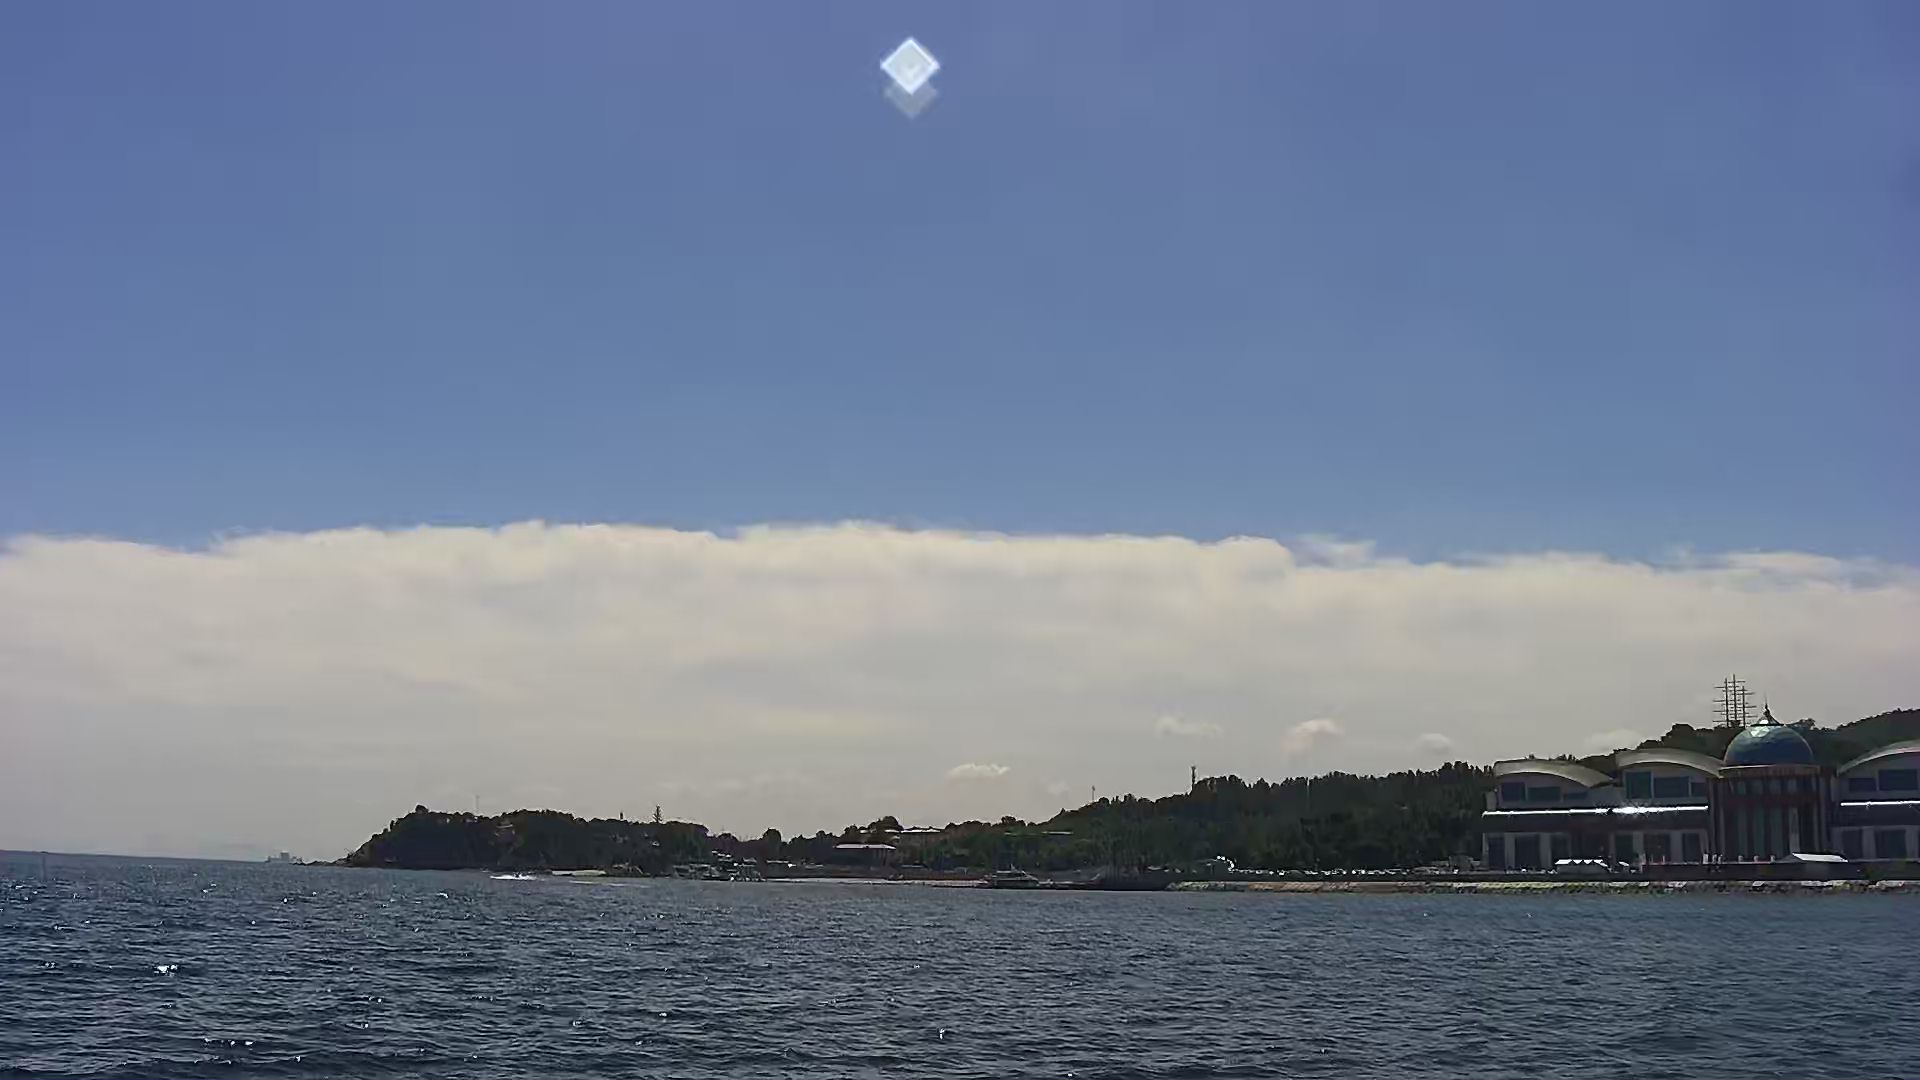boat: (1079, 851, 1182, 893), (977, 856, 1040, 897)
